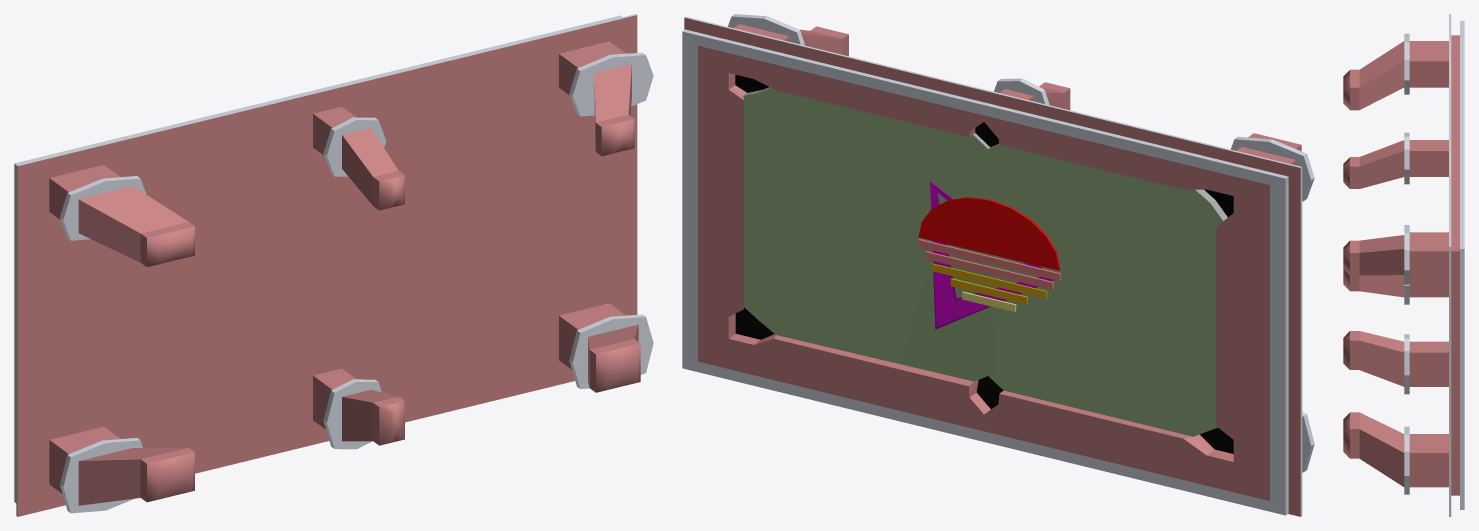
The model's file is Pool_Table.fbx.
The picture shows the model from 3 angles, left to right: view 1: azimuth 30°, elevation 25°; view 2: azimuth 150°, elevation 25°; view 3: azimuth 270°, elevation 25°; orthographic projection. The views are drawn at different scales.
Visible parts, largest first — view 1: Poker_Table_Final; view 2: Poker_Table_Final; view 3: Poker_Table_Final.
Part boxes in pixels (bbox=[...]): Poker_Table_Final: bbox=[14, 14, 653, 516]; Poker_Table_Final: bbox=[682, 14, 1314, 516]; Poker_Table_Final: bbox=[1343, 14, 1464, 516].
Bounding box in the file's own units: 5.42 × 2.93 × 1.19.
